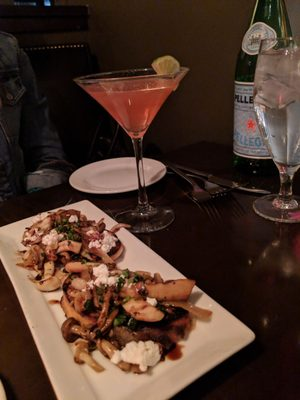curry: (0, 122, 300, 399)
sandwich: (72, 67, 188, 233), (251, 16, 300, 221)
